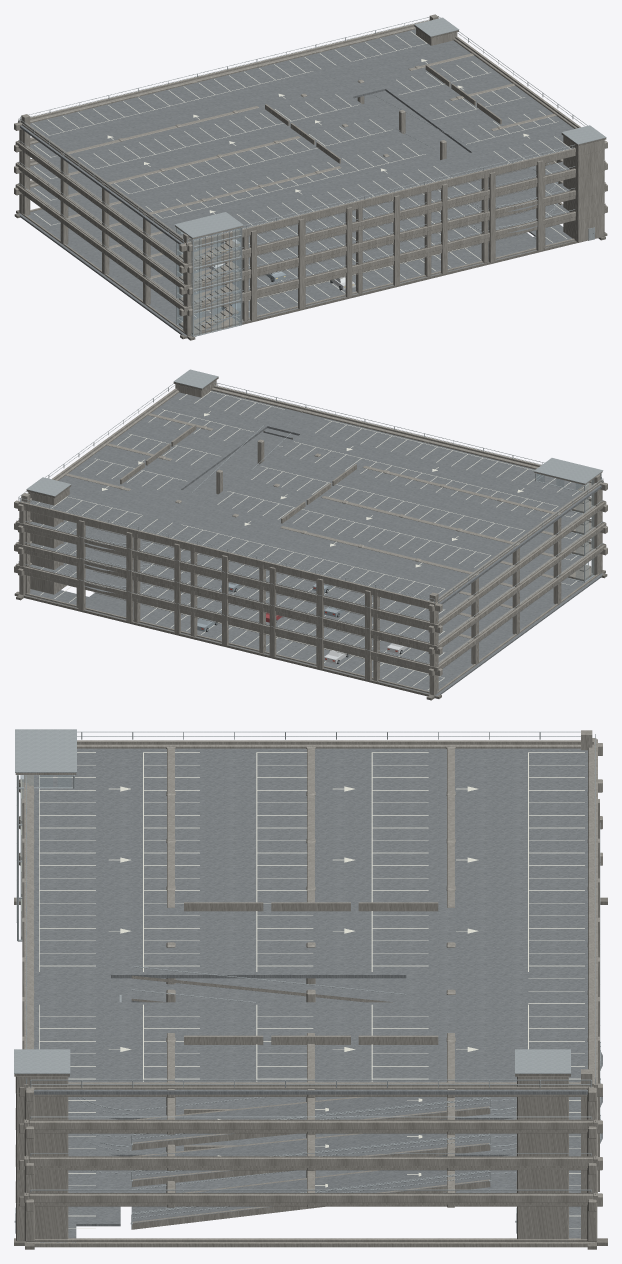
Rendered from AIR08_lod2.glb.
3 renders of one model, top to bottom at view 1: azimuth 30°, elevation 25°; view 2: azimuth 150°, elevation 25°; view 3: azimuth 270°, elevation 25°, orthographic. The views are drawn at different scales.
Parts seen in each view (by area): view 1: Roof__deck, Facade__concrete, Structure__deck, Structure__concrete, Details__stripe, Roof__concrete, Facade__galv, Interior__concrete, Facade__dark_concrete, Facade__glass, Facade__steel, Interior__deck (+5 smaller); view 2: Roof__deck, Facade__concrete, Structure__deck, Structure__concrete, Details__stripe, Facade__galv, Roof__concrete, Facade__dark_concrete, Interior__deck, Interior__concrete, Structure__dark_concrete, Roof__galv (+4 smaller); view 3: Roof__deck, Facade__concrete, Structure__concrete, Interior__deck, Structure__deck, Details__stripe, Facade__galv, Interior__concrete, Roof__concrete, Facade__dark_concrete, Roof__galv, Roof__steel (+3 smaller).
Boxes of the visible parts, x1,y1,x2,y2 form: Roof__deck: (20, 29, 573, 244); Facade__concrete: (14, 14, 607, 331); Structure__deck: (18, 90, 574, 335); Structure__concrete: (19, 37, 574, 335); Details__stripe: (32, 31, 570, 321); Roof__concrete: (19, 20, 580, 246); Facade__galv: (18, 16, 594, 304); Interior__concrete: (179, 65, 501, 335); Facade__dark_concrete: (16, 137, 605, 306); Facade__glass: (177, 228, 240, 335); Facade__steel: (176, 227, 594, 336); Interior__deck: (452, 165, 563, 263); Roof__deck: (30, 390, 601, 604); Facade__concrete: (14, 380, 607, 691); Structure__deck: (25, 428, 603, 695); Structure__concrete: (18, 397, 602, 695); Details__stripe: (36, 391, 588, 689); Facade__galv: (18, 382, 603, 664); Roof__concrete: (18, 385, 602, 606); Facade__dark_concrete: (16, 497, 605, 666); Interior__deck: (63, 431, 292, 593); Interior__concrete: (120, 425, 592, 581); Structure__dark_concrete: (14, 570, 607, 700); Roof__galv: (26, 369, 218, 496); Roof__deck: (34, 748, 587, 1094); Facade__concrete: (16, 730, 602, 1241); Structure__concrete: (24, 747, 597, 1247); Interior__deck: (68, 978, 602, 1226); Structure__deck: (29, 978, 592, 1242); Details__stripe: (39, 752, 584, 1228); Facade__galv: (14, 731, 600, 1223); Interior__concrete: (21, 783, 489, 1222); Roof__concrete: (15, 739, 597, 1090); Facade__dark_concrete: (15, 1077, 595, 1203); Roof__galv: (14, 1049, 570, 1073); Roof__steel: (15, 729, 76, 772).
Size of the model in its own units: 74.8 by 17.3 by 53.01.
Materials: 15 (6 with a texture image).
